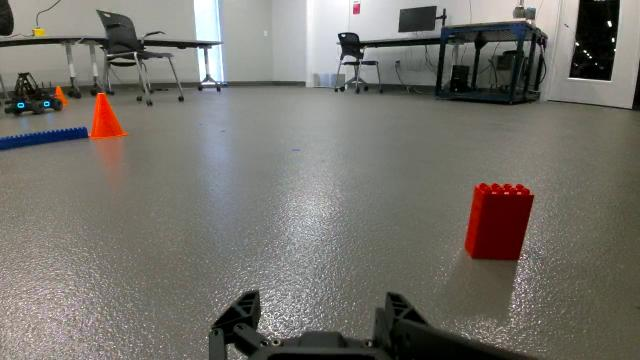lego: (464, 173, 538, 274)
